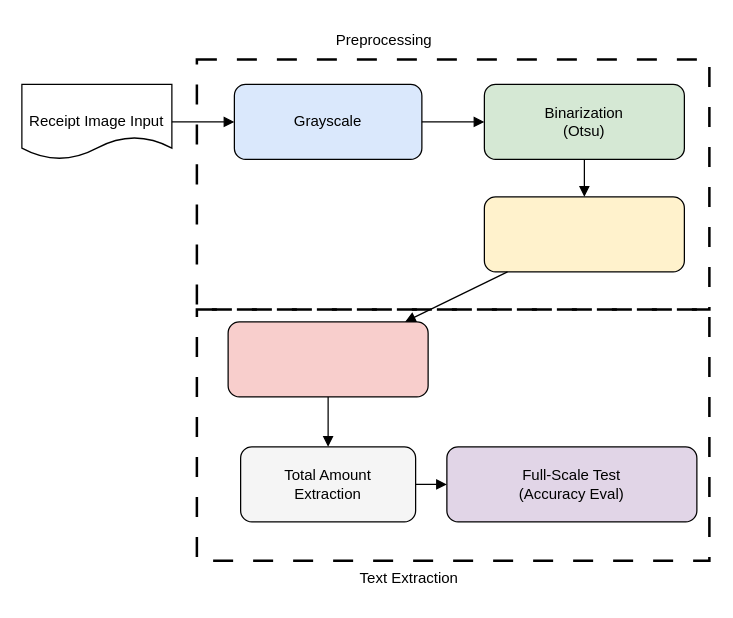
This 733x618 diagram has some shape labels left out. Each missing label, with the centre of its shape:
OCR (PyTesseract): point (327, 359)
Skew Correction (Score-Based): point (583, 234)
